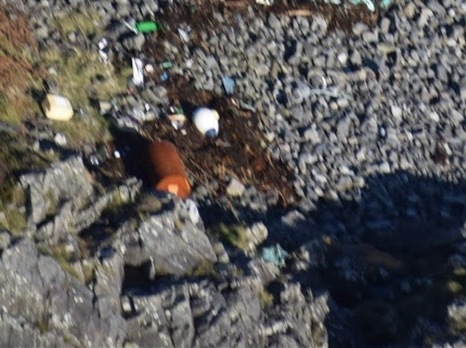together_barrel: (90, 13, 242, 140)
white_in_green: (128, 129, 208, 206), (20, 72, 96, 140), (241, 224, 315, 286)
